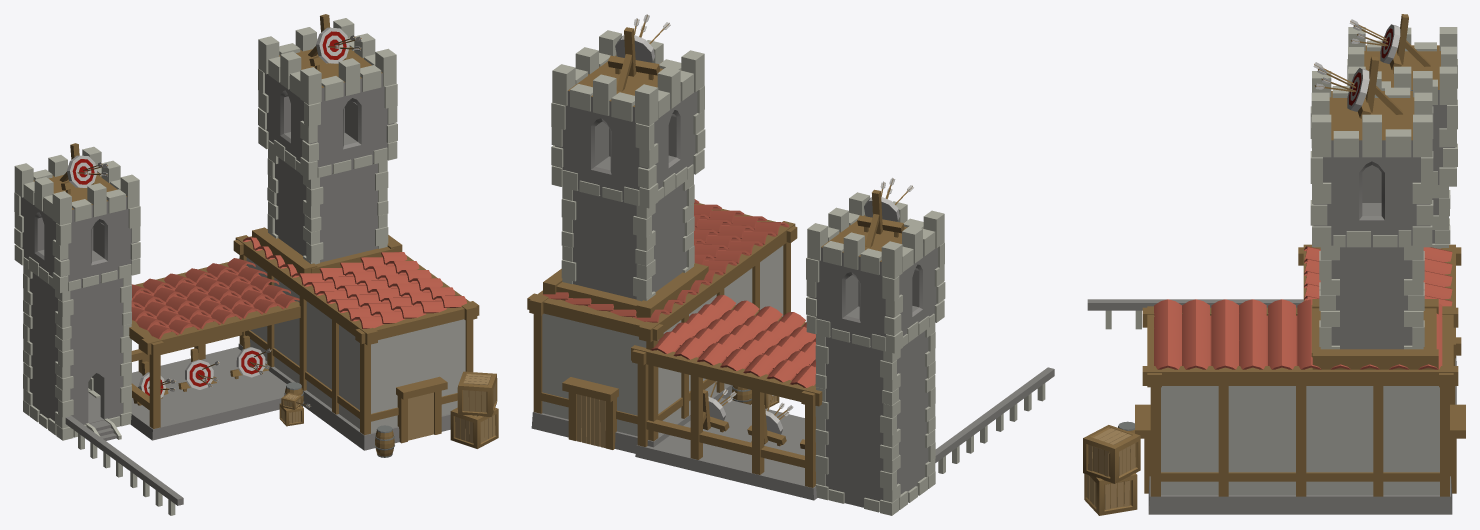
File: Archery_SecondAge_Level3.glb
3 renders of one model, left to right at view 1: azimuth 30°, elevation 25°; view 2: azimuth 150°, elevation 25°; view 3: azimuth 270°, elevation 25°, orthographic. The views are drawn at different scales.
Parts seen in each view (by area): view 1: Archery_SecondAge_Level3; view 2: Archery_SecondAge_Level3; view 3: Archery_SecondAge_Level3.
Boxes of the visible parts, x1=… form: Archery_SecondAge_Level3: x1=14, y1=14, x2=498, y2=515; Archery_SecondAge_Level3: x1=527, y1=14, x2=1054, y2=515; Archery_SecondAge_Level3: x1=1083, y1=14, x2=1465, y2=515.
Size of the model in its own units: 1.95 by 1.95 by 1.59.
1 material, 1 textured.
